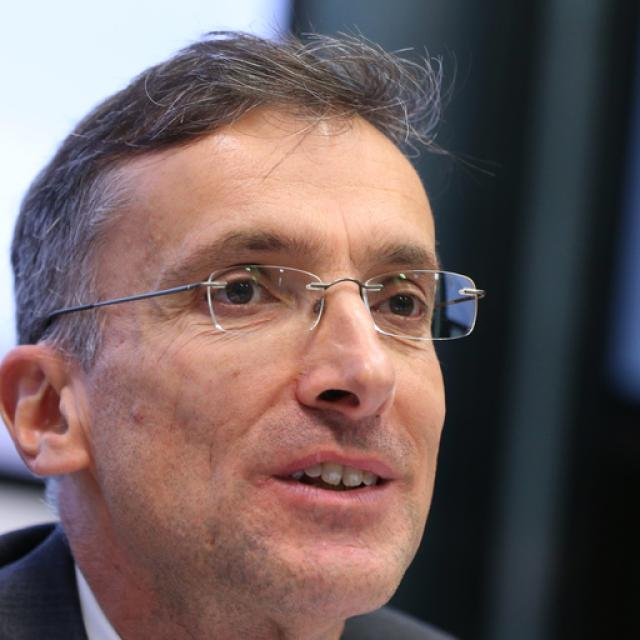Acne: (127, 403, 147, 426)
